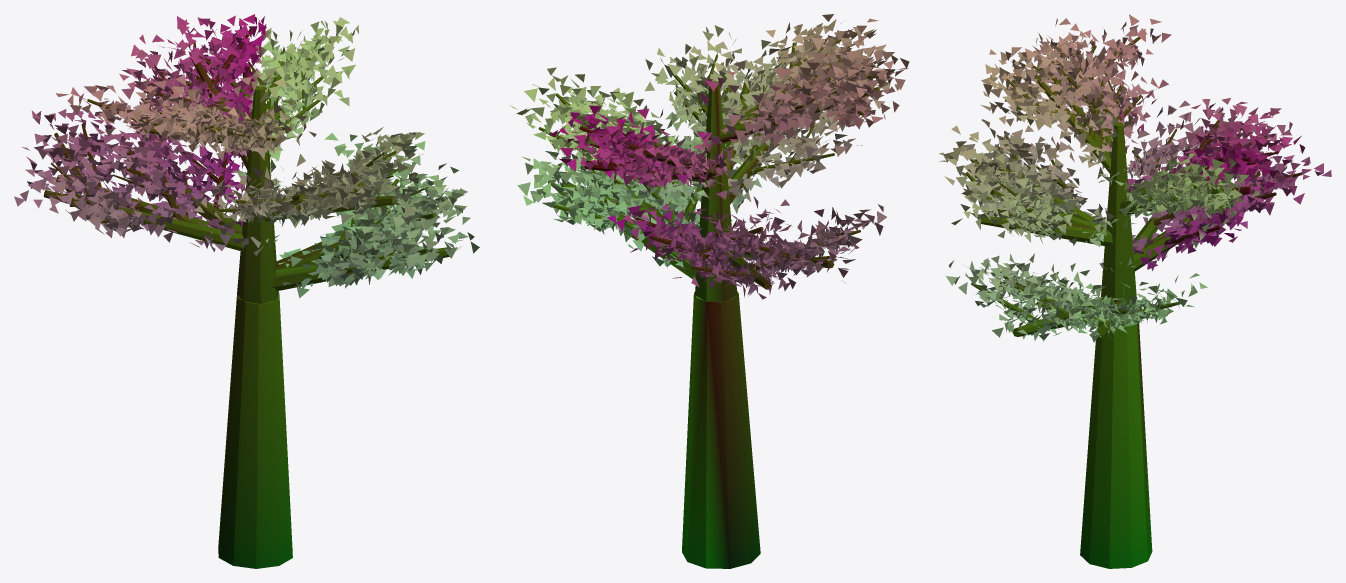
Rendered from ecological_savanna_old_01.glb.
3 renders of one model, left to right at view 1: azimuth 30°, elevation 25°; view 2: azimuth 150°, elevation 25°; view 3: azimuth 270°, elevation 25°, orthographic. The views are drawn at different scales.
Parts seen in each view (by area): view 1: ecological_savanna_old_01; view 2: ecological_savanna_old_01; view 3: ecological_savanna_old_01.
Part boxes in pixels (<box>): ecological_savanna_old_01: <box>14,14,479,568</box>; ecological_savanna_old_01: <box>509,14,909,568</box>; ecological_savanna_old_01: <box>939,14,1331,568</box>.
Size of the model in its own units: 36.8 by 47.59 by 36.3.
